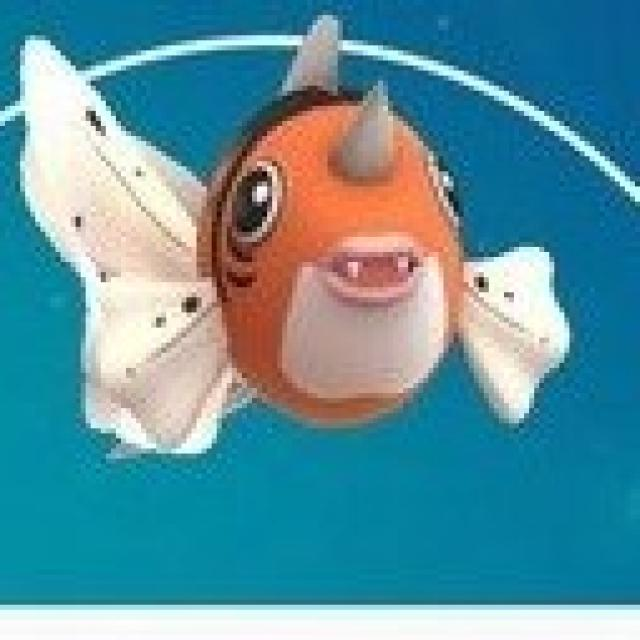Seaking: (0, 17, 588, 472)
